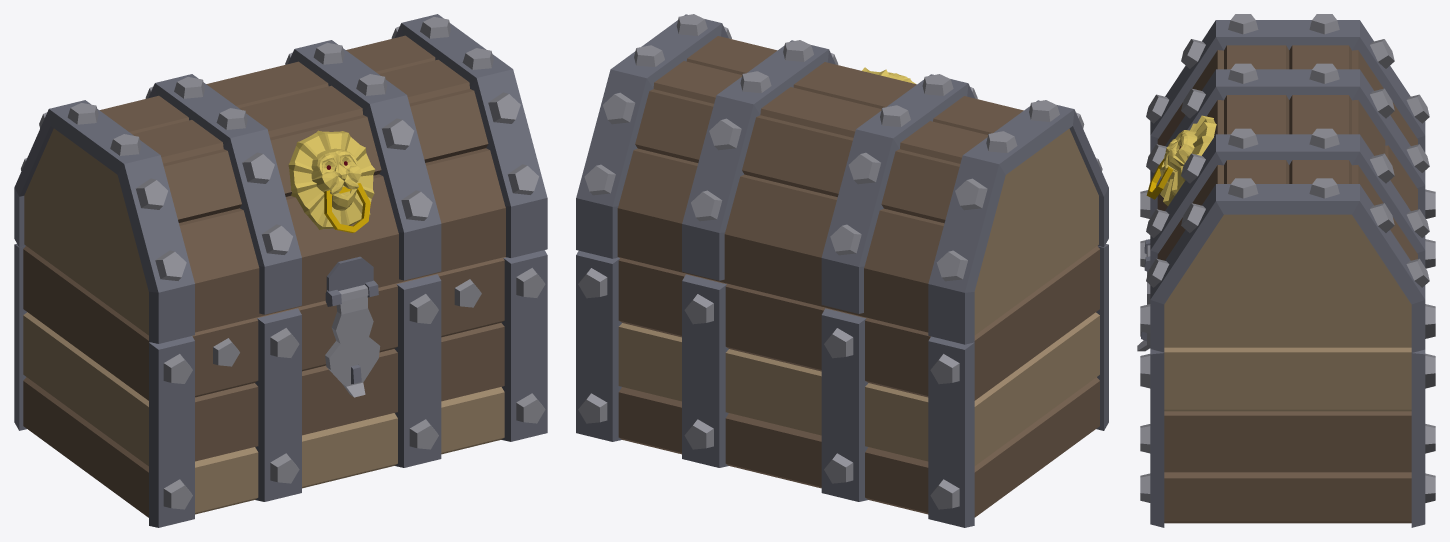
Rendered from _trunk_18.fbx.
3 views of the same model, side by side, from view 1: azimuth 30°, elevation 25°; view 2: azimuth 150°, elevation 25°; view 3: azimuth 270°, elevation 25° (orthographic). The views are drawn at different scales.
Visible parts, largest first — view 1: trunk_18; view 2: trunk_18; view 3: trunk_18.
Boxes of the visible parts, x1,y1,x2,y2 form: trunk_18: (14,14,547,527); trunk_18: (576,14,1108,527); trunk_18: (1137,14,1435,527).
Bounding box in the file's own units: 112 × 95.62 × 77.14.
